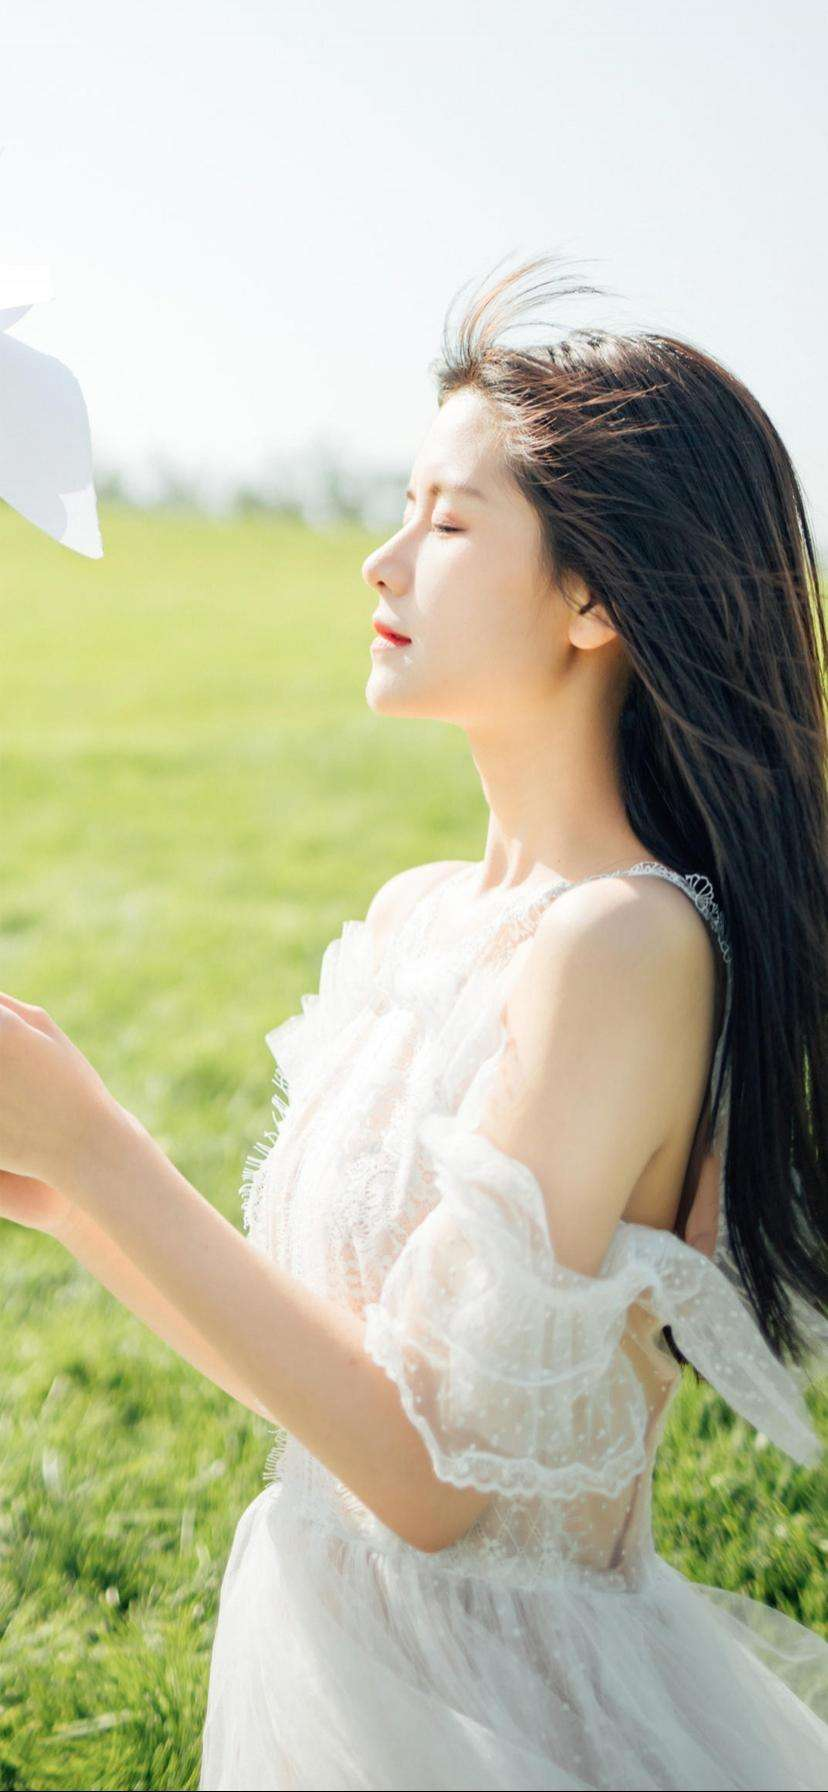person: (193, 334, 743, 1792)
